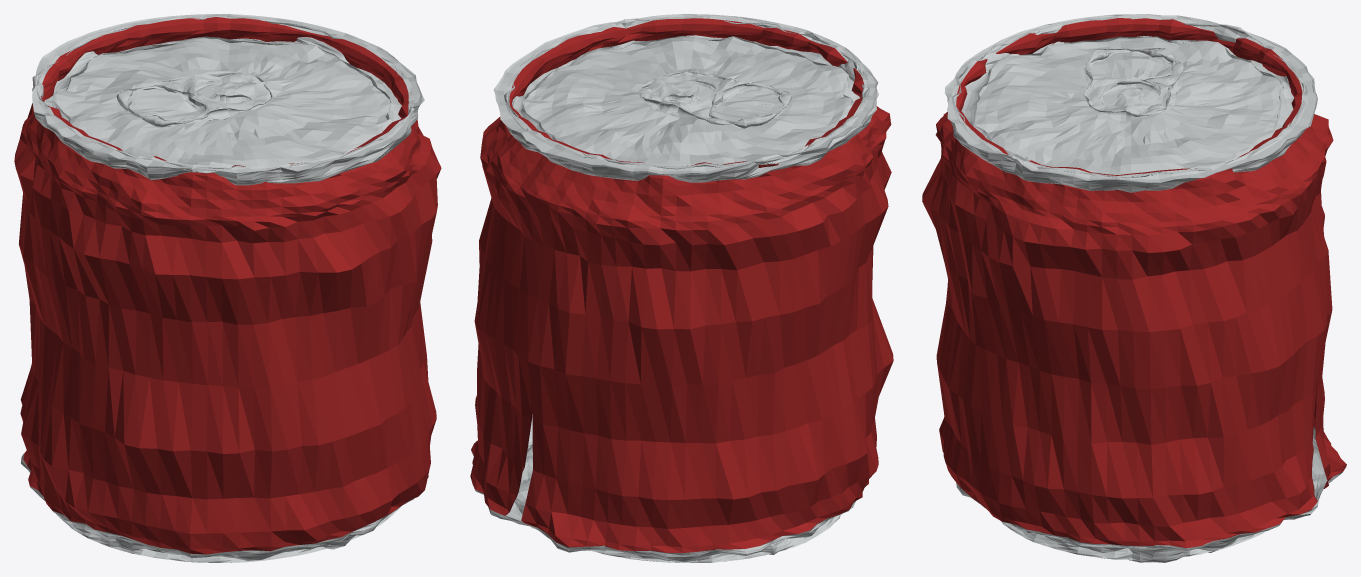
File: crush_medium_0.obj
3 views of the same model, side by side, from view 1: azimuth 30°, elevation 25°; view 2: azimuth 150°, elevation 25°; view 3: azimuth 270°, elevation 25° (orthographic). The views are drawn at different scales.
Parts seen in each view (by area): view 1: model; view 2: model; view 3: model.
Boxes of the visible parts, x1,y1,x2,y2 form: model: (14, 14, 441, 562); model: (470, 14, 893, 562); model: (922, 14, 1346, 562).
Bounding box in the file's own units: 0.0664 × 0.0729 × 0.0698.
1 material, 1 textured.
